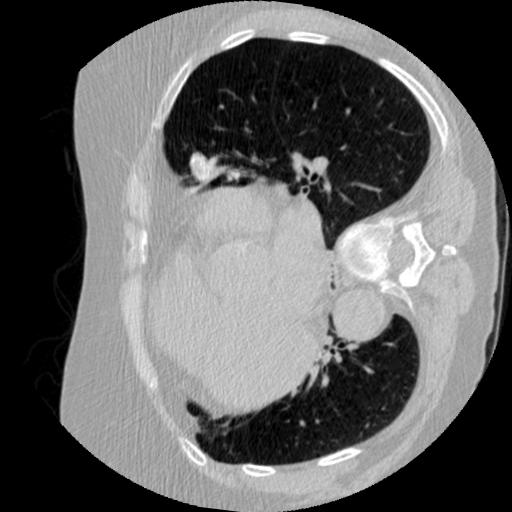nodule: (186, 150, 218, 182)
